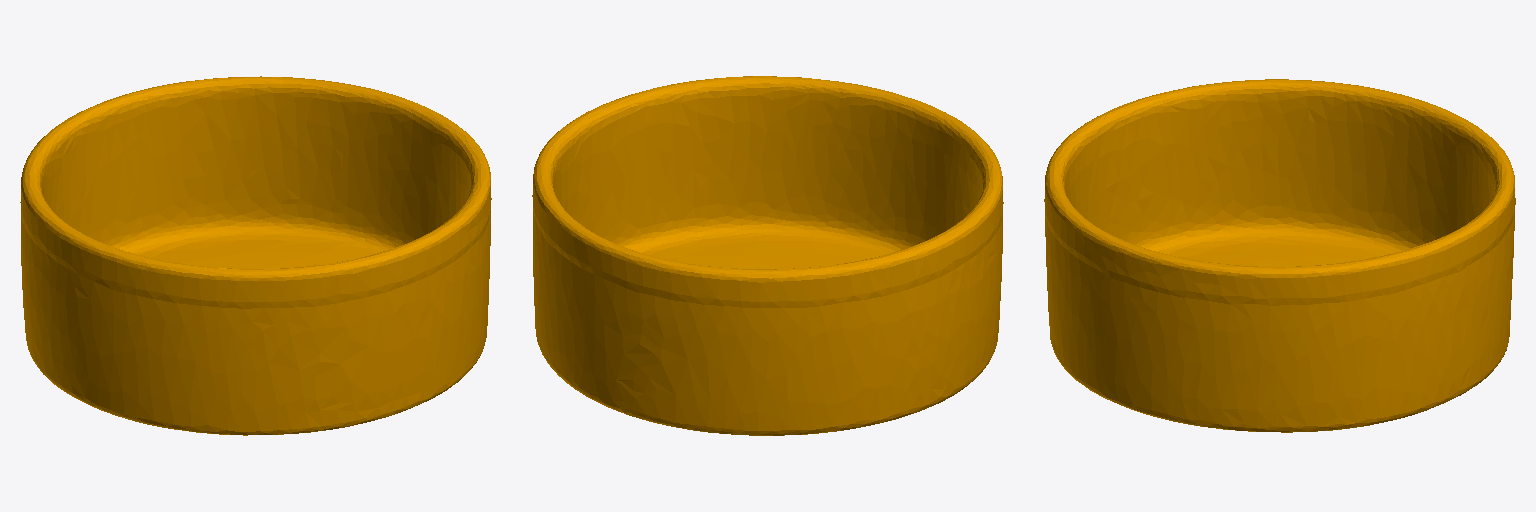
URDF robot description (Top_Paw_Dog_Bowl_Blue_Paw_Bone_Ceramic_25_fl_oz_total):

<robot name="Top_Paw_Dog_Bowl_Blue_Paw_Bone_Ceramic_25_fl_oz_total">
    <link name="base">
        <inertial>
            <origin xyz="2.104143677423821e-18 -6.312431032271464e-18 -2.104143677423821e-18" />
            <mass value="0.0002683698064735938" />
            <inertia ixx="6.546970142104672e-07" ixy="-2.542917164858849e-10" 
                     ixz="-3.486720390788804e-09" iyy="6.607441490902868e-07" 
                     iyz="-3.284092910219557e-10" izz="1.1366503012745396e-06" />
        </inertial>
        <visual>
            <origin xyz="0 0 0" />
            <geometry>
                <mesh filename="visual_geometry.obj" />
            </geometry>
        </visual>
        <collision>
            <origin xyz="0 0 0" />
            <geometry>
                <mesh filename="collision_geometry.obj" />
            </geometry>
        </collision>
    </link>
</robot>

--- Facts derived from the render (not from the file) ---
3 views of the same robot in one strip: view 1: azimuth 30°, elevation 25°; view 2: azimuth 150°, elevation 25°; view 3: azimuth 270°, elevation 25° (orthographic).
Model Top_Paw_Dog_Bowl_Blue_Paw_Bone_Ceramic_25_fl_oz_total with 1 links and 0 joints (none), rooted at base, posed all joints at 0.
Visible links, largest first — view 1: base; view 2: base; view 3: base.
Link boxes in pixels (x1=…): base: x1=20, y1=76, x2=491, y2=435; base: x1=532, y1=76, x2=1003, y2=435; base: x1=1044, y1=79, x2=1515, y2=432.
Size in the robot's own frame: 0.1525 by 0.1531 by 0.0603 metres.
Meshes: 1 distinct files referenced, 1 mesh visuals loaded (1 OBJ).